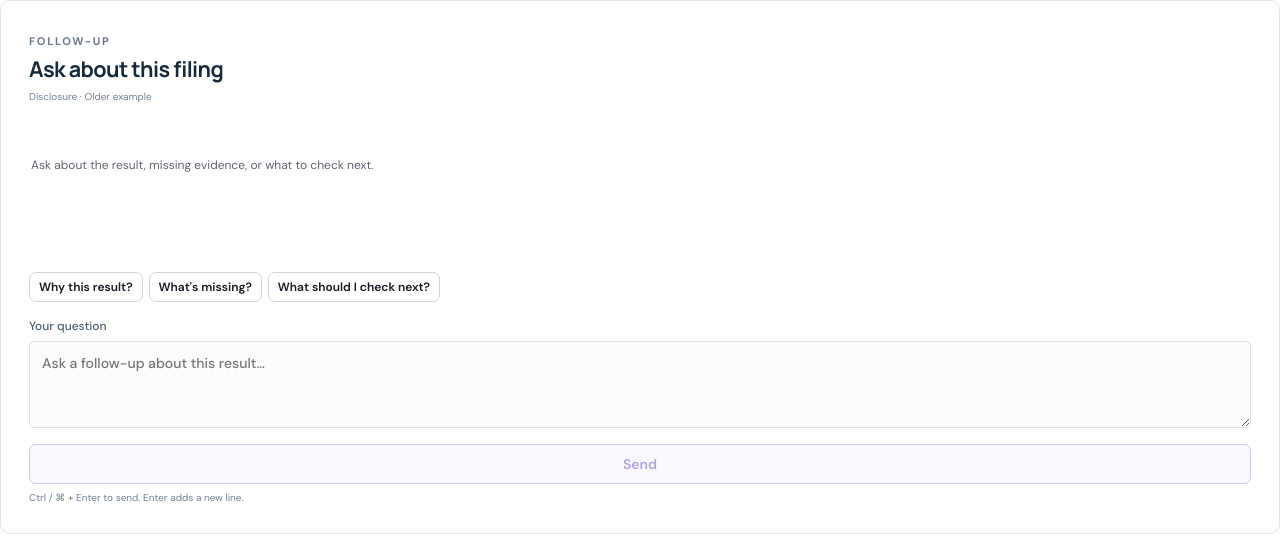
Test: a failed follow-up question stays visible
The width and height of the screenshot is (1280, 552).
Click the button "Why this result?": coordinates (86, 287) [29,272,143,302]
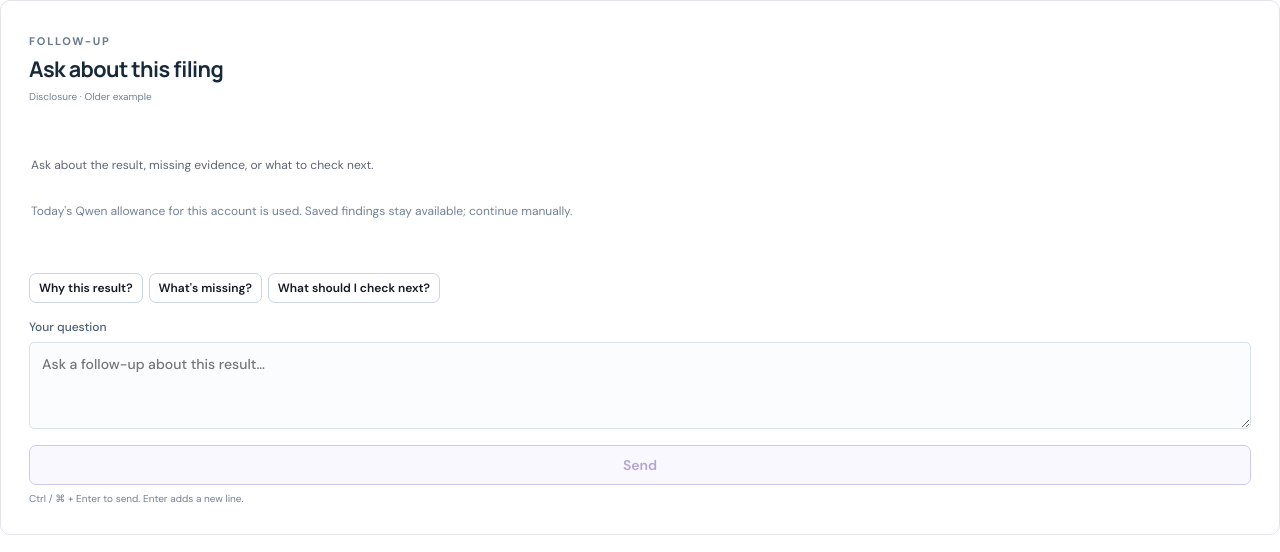
Result: the message shows "Today's Qwen allowance" at [31,203,572,219]
